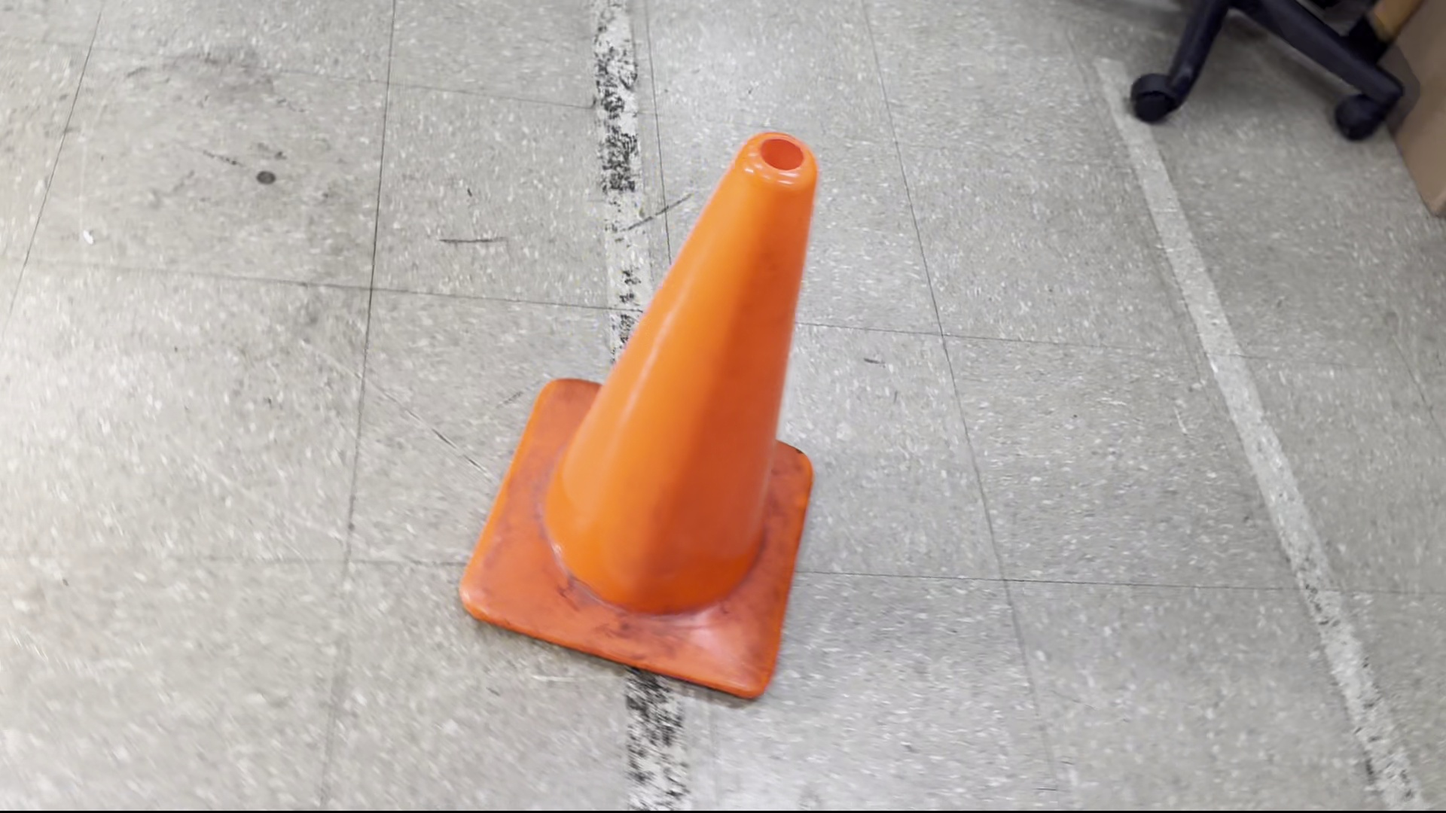traffic_cone: (458, 129, 820, 701)
